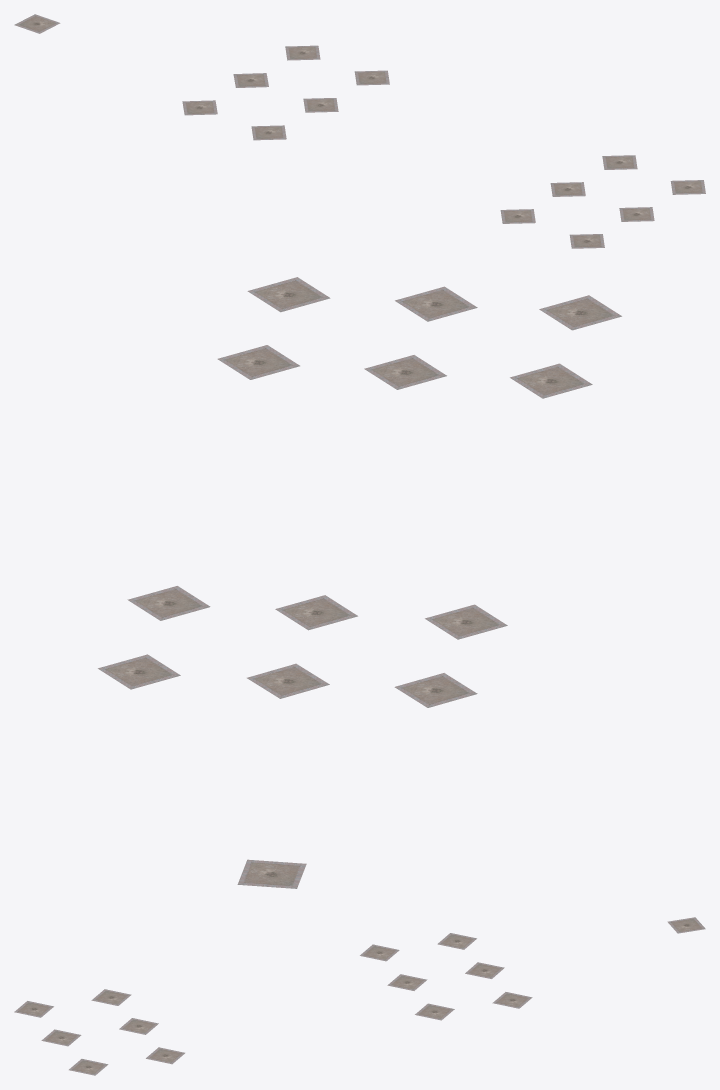
The model's file is TreeBase_GSP.FBX.
The picture shows the model from 3 angles, top to bottom: view 1: azimuth 30°, elevation 25°; view 2: azimuth 150°, elevation 25°; view 3: azimuth 270°, elevation 25°; orthographic projection. The views are drawn at different scales.
Parts seen in each view (by area): view 1: TreeBase_GSP; view 2: TreeBase_GSP; view 3: TreeBase_GSP.
Boxes of the visible parts, x1=… form: TreeBase_GSP: x1=14, y1=14, x2=705, y2=248; TreeBase_GSP: x1=98, y1=277, x2=621, y2=888; TreeBase_GSP: x1=14, y1=917, x2=705, y2=1075.
Bounding box in the file's own units: 3735 × 4.22e-13 × 6889.
1 material, 1 textured.
